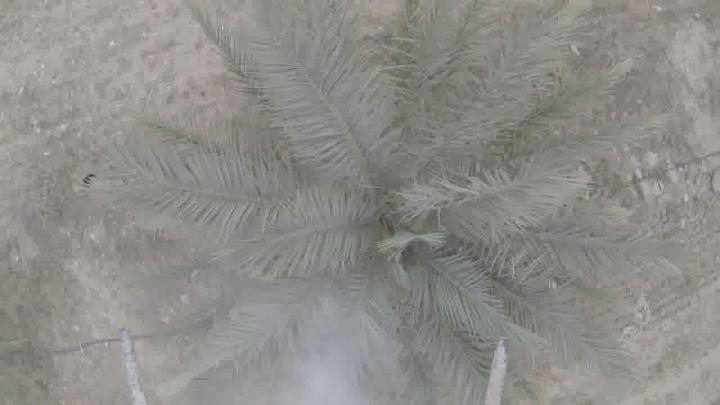Date-Palm-Crown: (279, 101, 529, 352)
